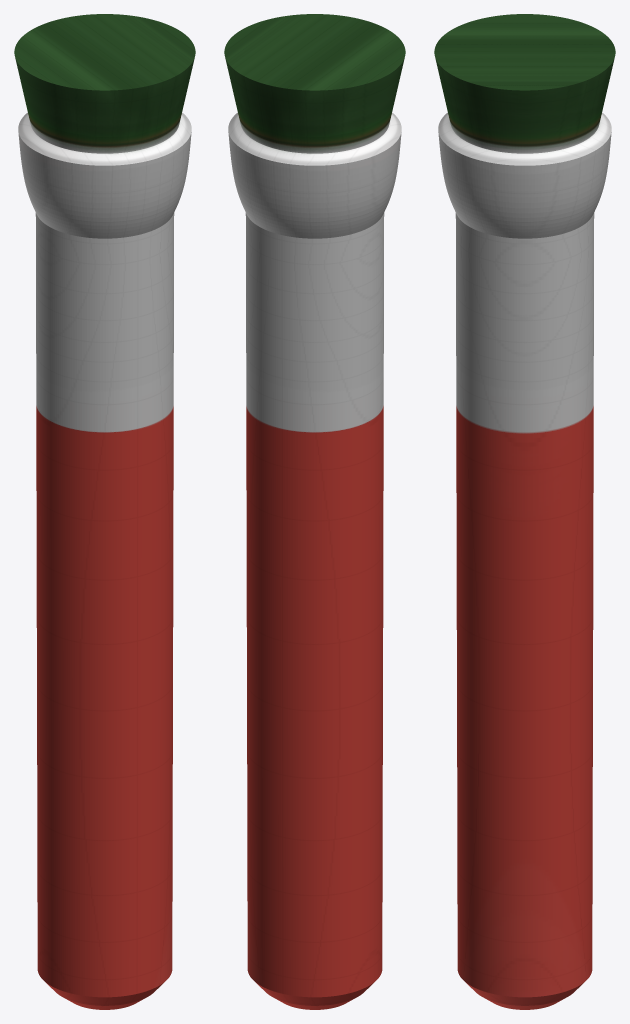
The picture shows the model from 3 angles, left to right: view 1: azimuth 30°, elevation 25°; view 2: azimuth 150°, elevation 25°; view 3: azimuth 270°, elevation 25°; orthographic projection.
Visible parts, largest first — view 1: Potion.002; view 2: Potion.002; view 3: Potion.002.
Part boxes in pixels (x1,y1,x2,y2): Potion.002: (14, 14, 195, 1009); Potion.002: (224, 14, 405, 1009); Potion.002: (434, 14, 615, 1009).
Bounding box in the file's own units: 63.7 × 367 × 63.7.
Materials: 1 (1 with a texture image).
